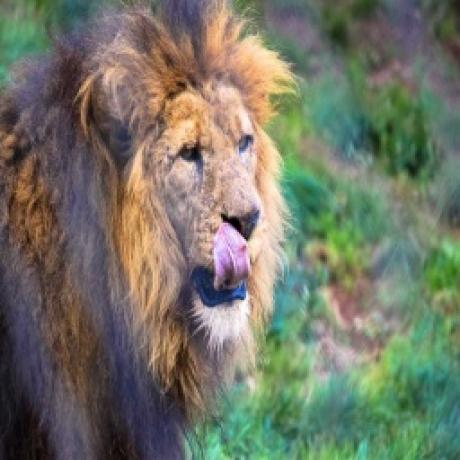Lion: (0, 0, 305, 460)
